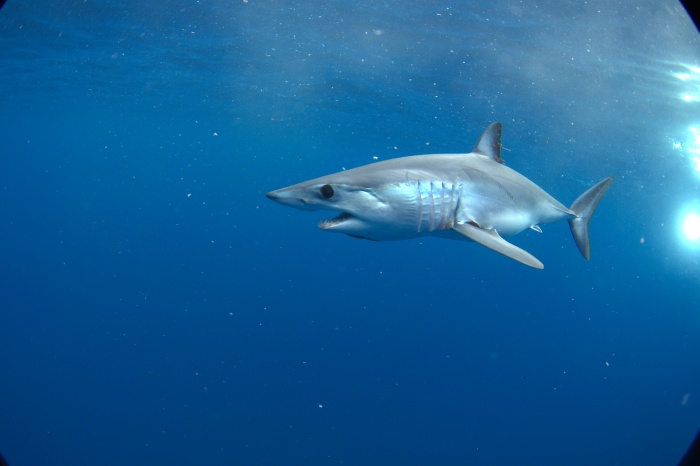Mako: (252, 114, 623, 280)
